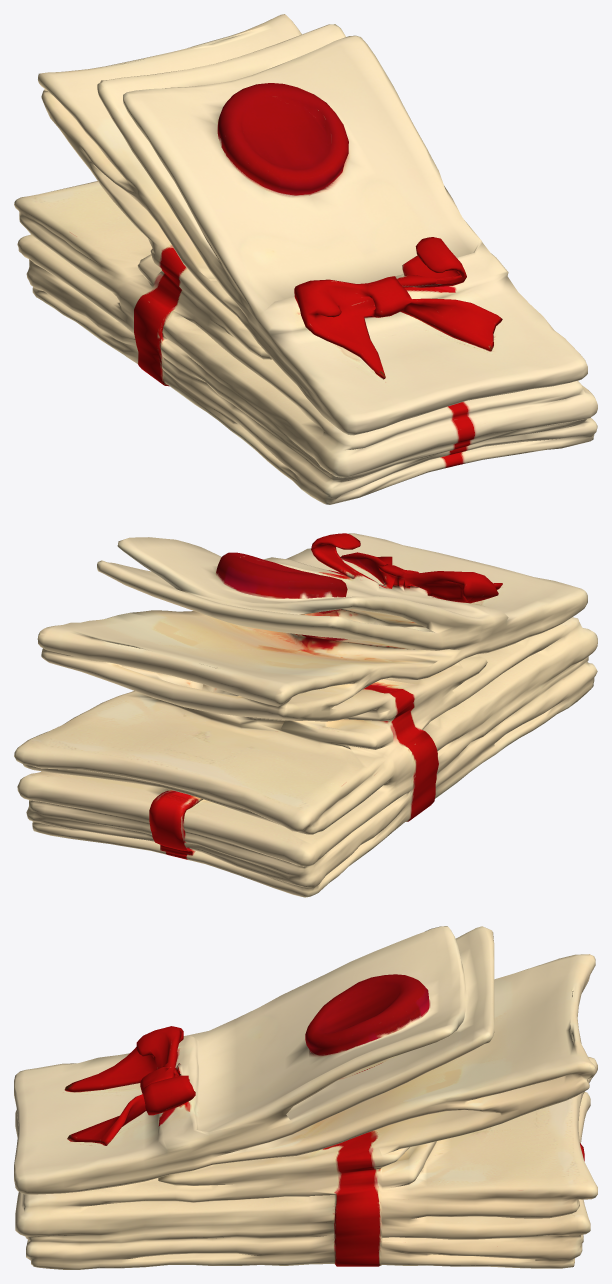
File: board_deed_token.glb
The picture shows the model from 3 angles, top to bottom: view 1: azimuth 30°, elevation 25°; view 2: azimuth 150°, elevation 25°; view 3: azimuth 270°, elevation 25°; orthographic projection. The views are drawn at different scales.
Size of the model in its own units: 1.04 by 0.8454 by 1.9.
Materials: 1 (1 with a texture image).
